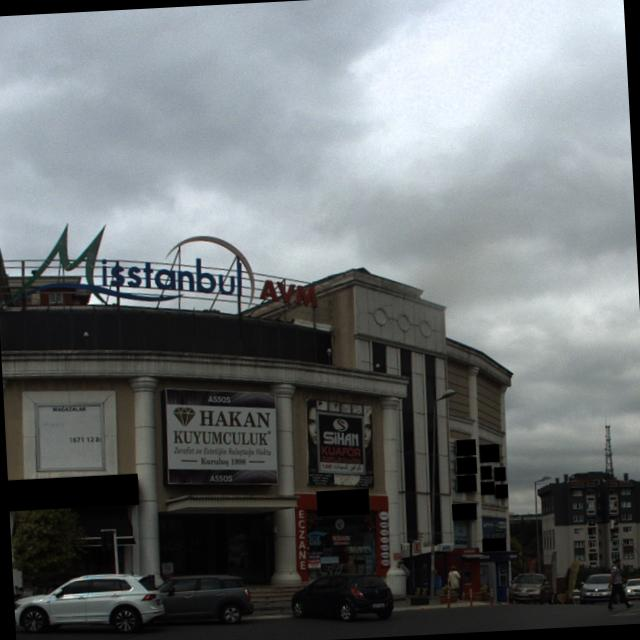SignStore: (8, 480, 139, 509), (318, 492, 370, 515), (452, 504, 477, 520), (479, 445, 500, 462), (482, 539, 507, 552), (457, 440, 476, 456), (458, 459, 477, 474), (458, 477, 477, 492), (481, 482, 495, 495), (494, 468, 506, 481), (481, 466, 492, 480), (497, 485, 508, 498)
